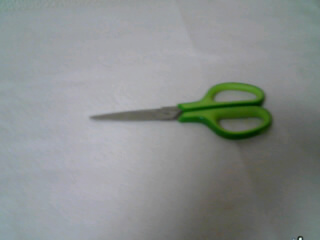003_classes: (86, 80, 275, 138)
